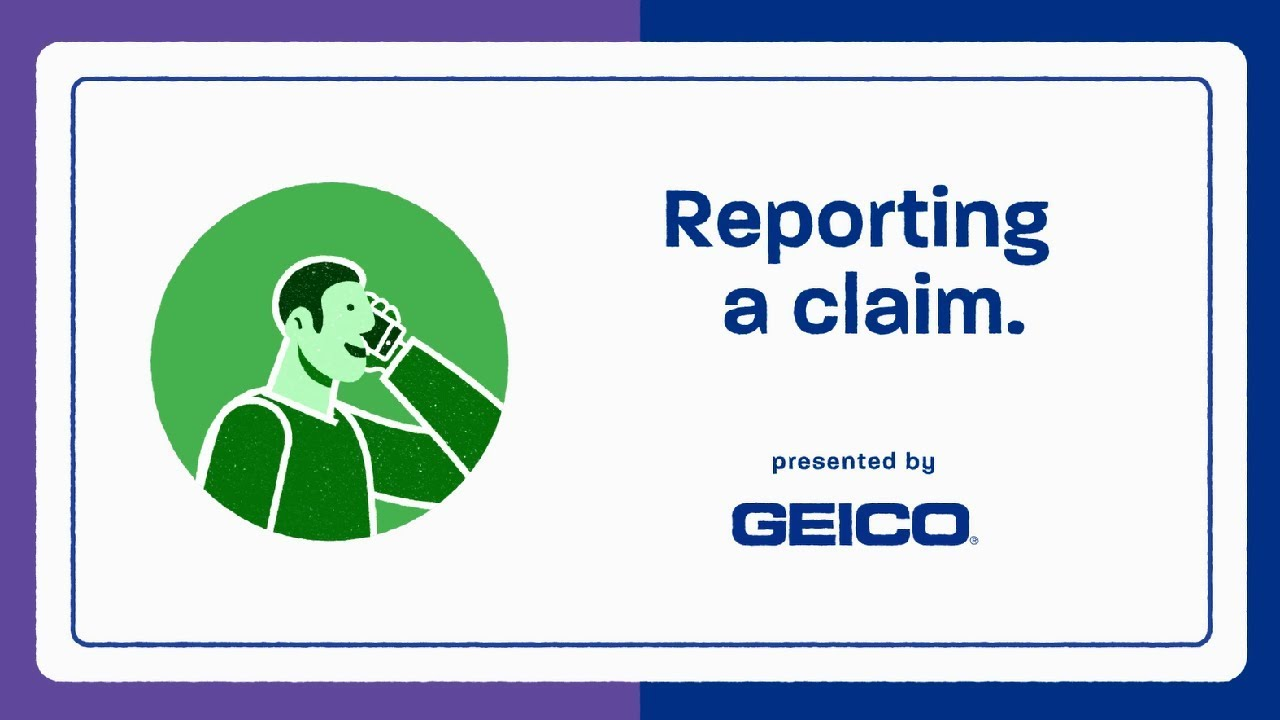Geico: (726, 494, 1000, 557)
